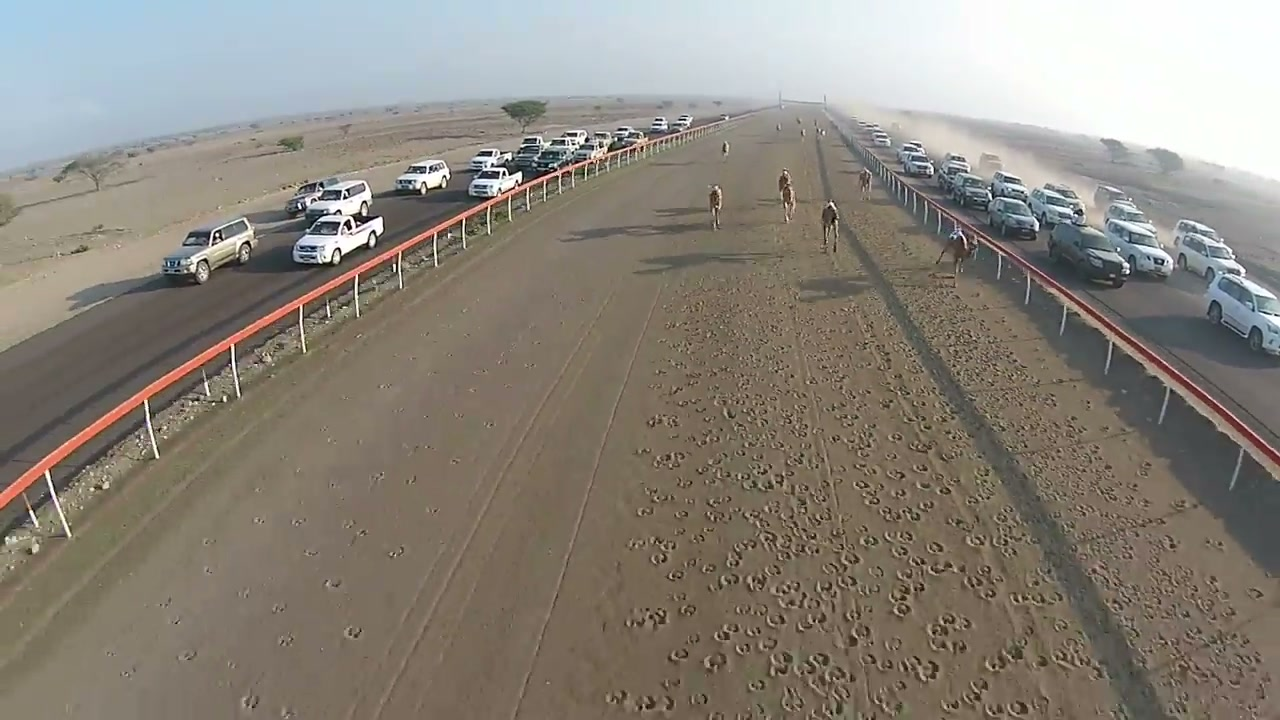animal_footprint: (605, 208, 1269, 717)
